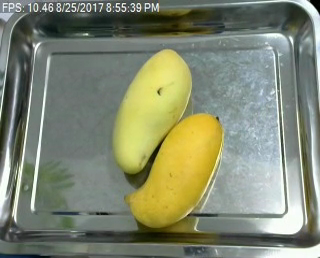Mango: (122, 113, 224, 229), (105, 49, 192, 175)
